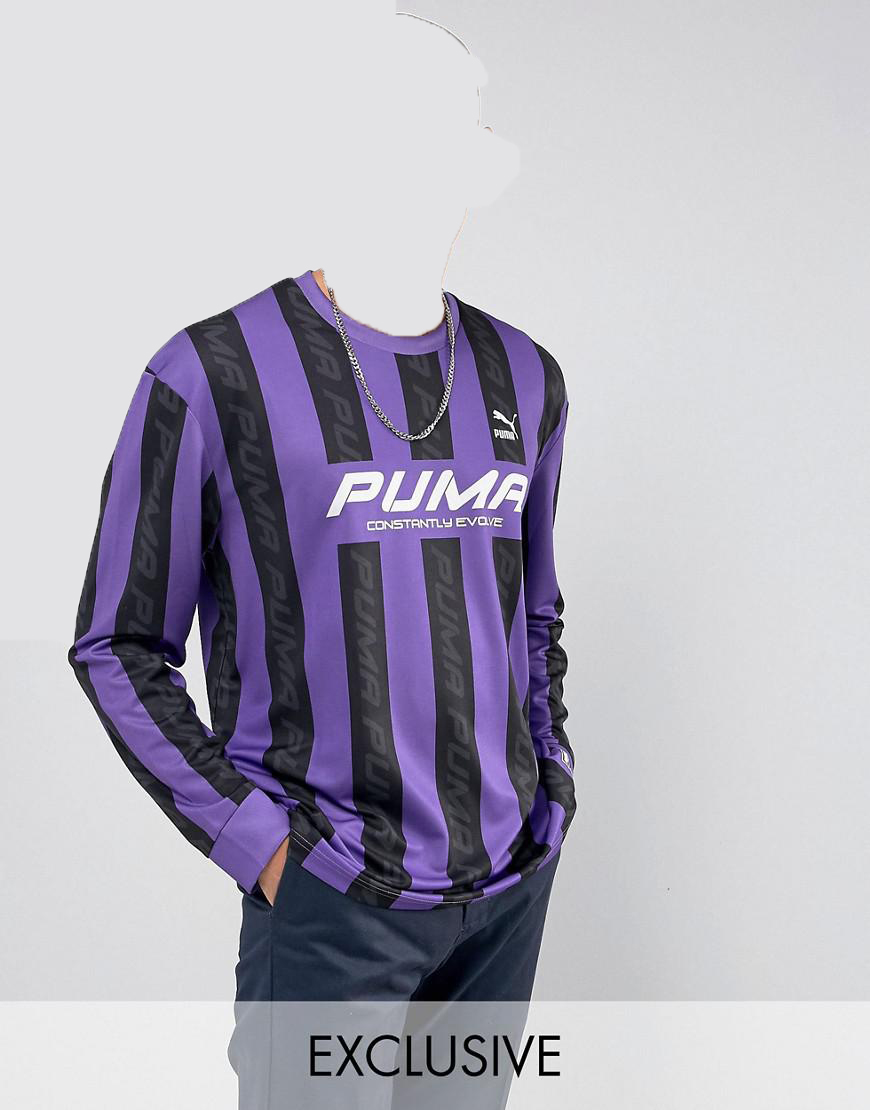teeshirt: (66, 274, 598, 907)
